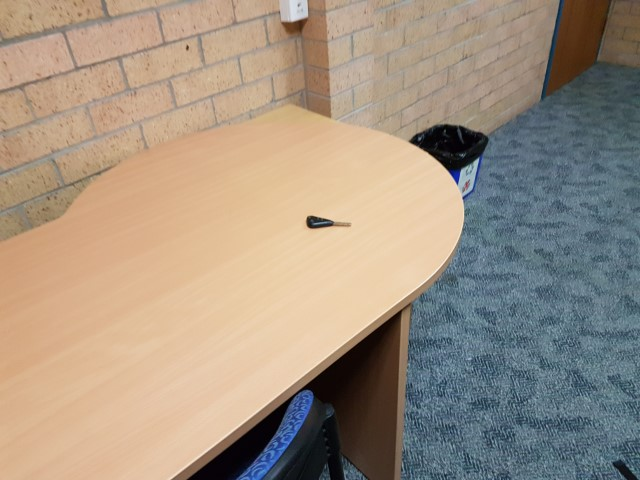key: (306, 215, 354, 230)
